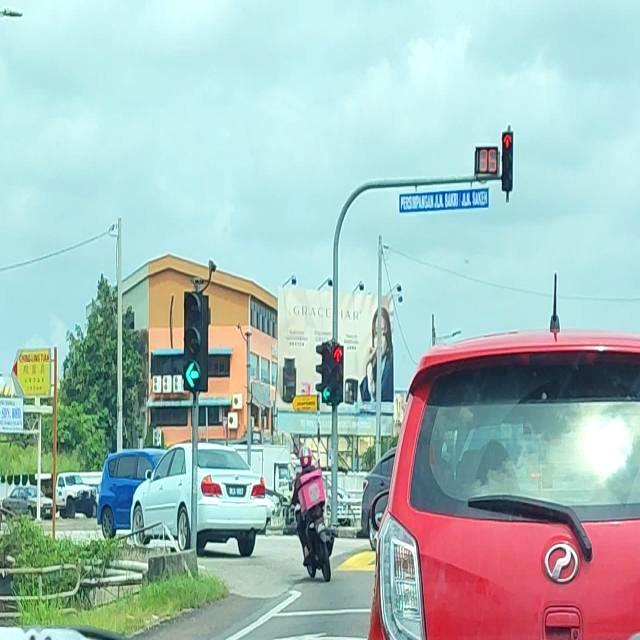Green: (182, 289, 203, 392), (321, 340, 334, 404)
Red: (501, 130, 514, 192), (333, 342, 344, 403)
